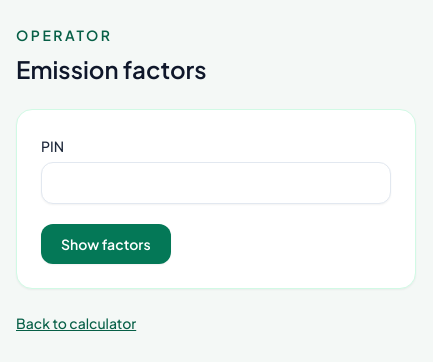
it: OperatorPage › rejects a wrong PIN and unlocks with the operator PIN
The image size is (433, 362).
Type "nope" into the password field labelled "PIN" at (216, 183), box x1=41 y1=162 x2=391 y2=204
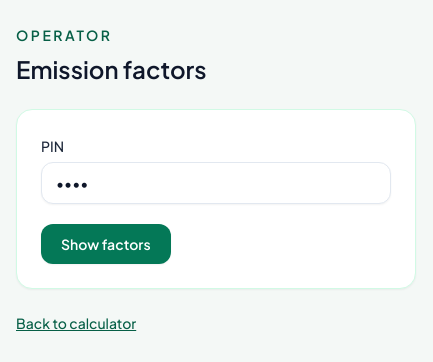
Click the button "Show factors" at (106, 244), box x1=41 y1=224 x2=171 y2=264
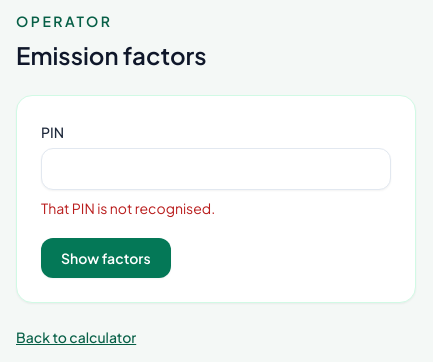
Now the text "That PIN is not recognised." is shown, box x1=41 y1=199 x2=215 y2=217
Type "secret" into the password field labelled "PIN" at (216, 169), box x1=41 y1=148 x2=391 y2=190
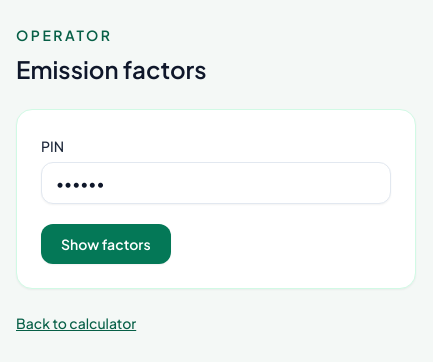
Click the button "Show factors" at (106, 244), box x1=41 y1=224 x2=171 y2=264
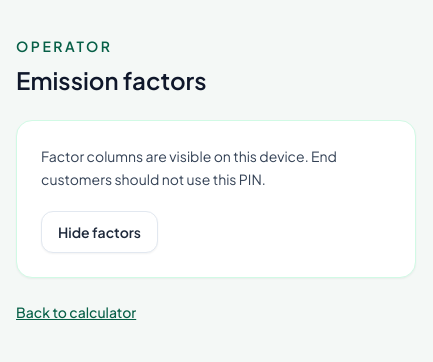
Now the text "Factor columns are visible" is shown, box x1=41 y1=147 x2=337 y2=188
Click the button "Hide factors" at (100, 232), box x1=41 y1=211 x2=158 y2=253
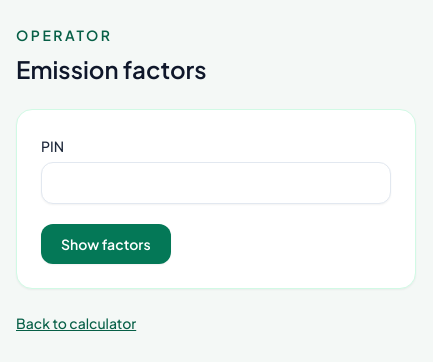
Now the password field labelled "PIN" is shown, box x1=41 y1=162 x2=391 y2=204
